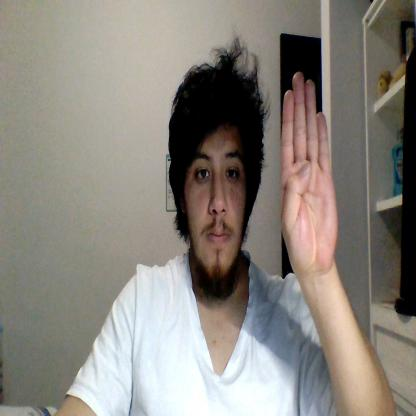B: (280, 72, 338, 274)
